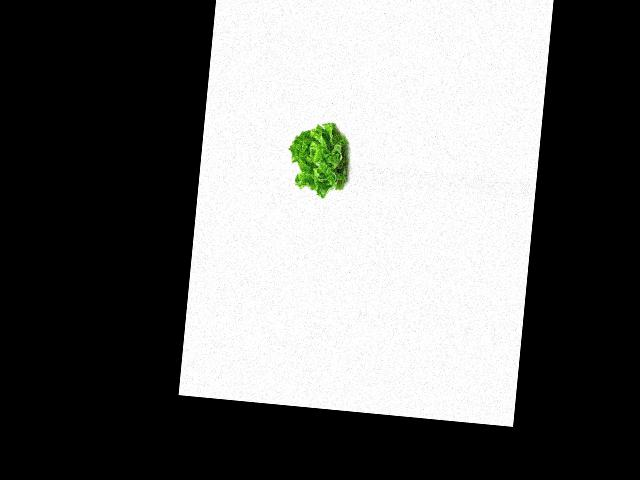lettuce: (285, 120, 353, 199)
